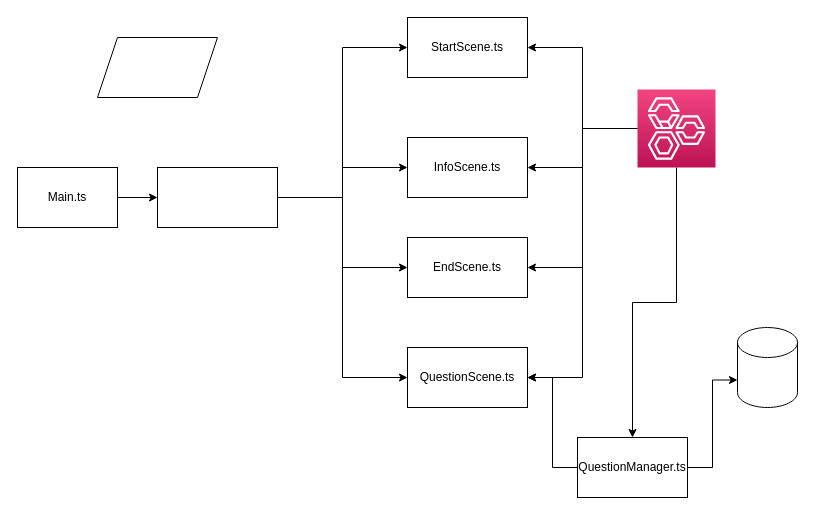
Image size: 815x515. Some labels were removed from this diagram. The centre of each missing label's shape, as x and y in pixels:
"SceneManager.ts" belongs at (x=217, y=197).
"工具类" belongs at (x=676, y=128).
"数据源" belongs at (x=767, y=367).
